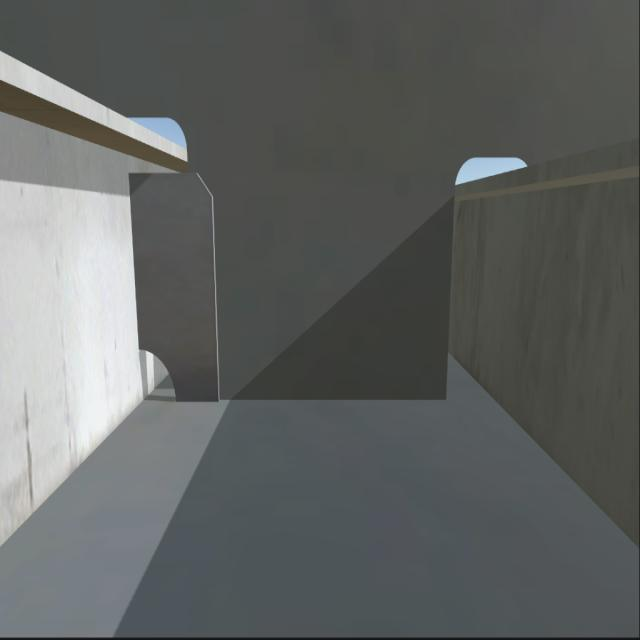fillet_hole: (129, 333, 182, 406)
fillet_yong_jeop_jang: (175, 381, 452, 408)
longi_yong_jeop_jang: (127, 171, 139, 355)
plate_CP03: (134, 170, 215, 407)
